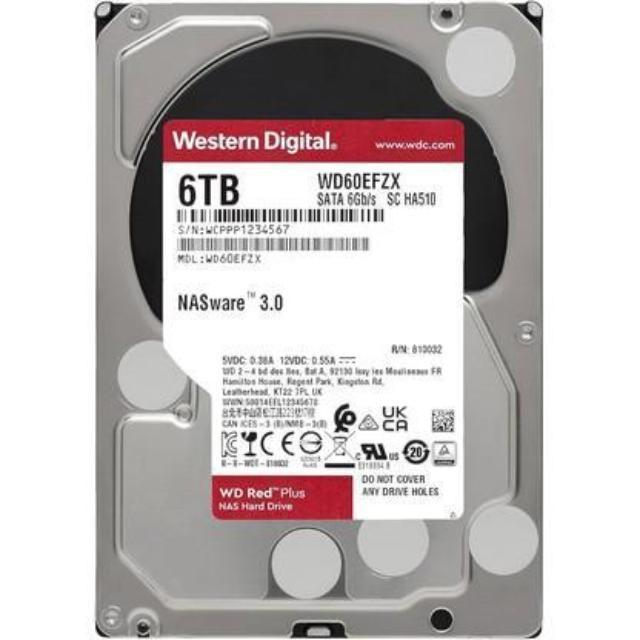DISK: (91, 0, 546, 640)
